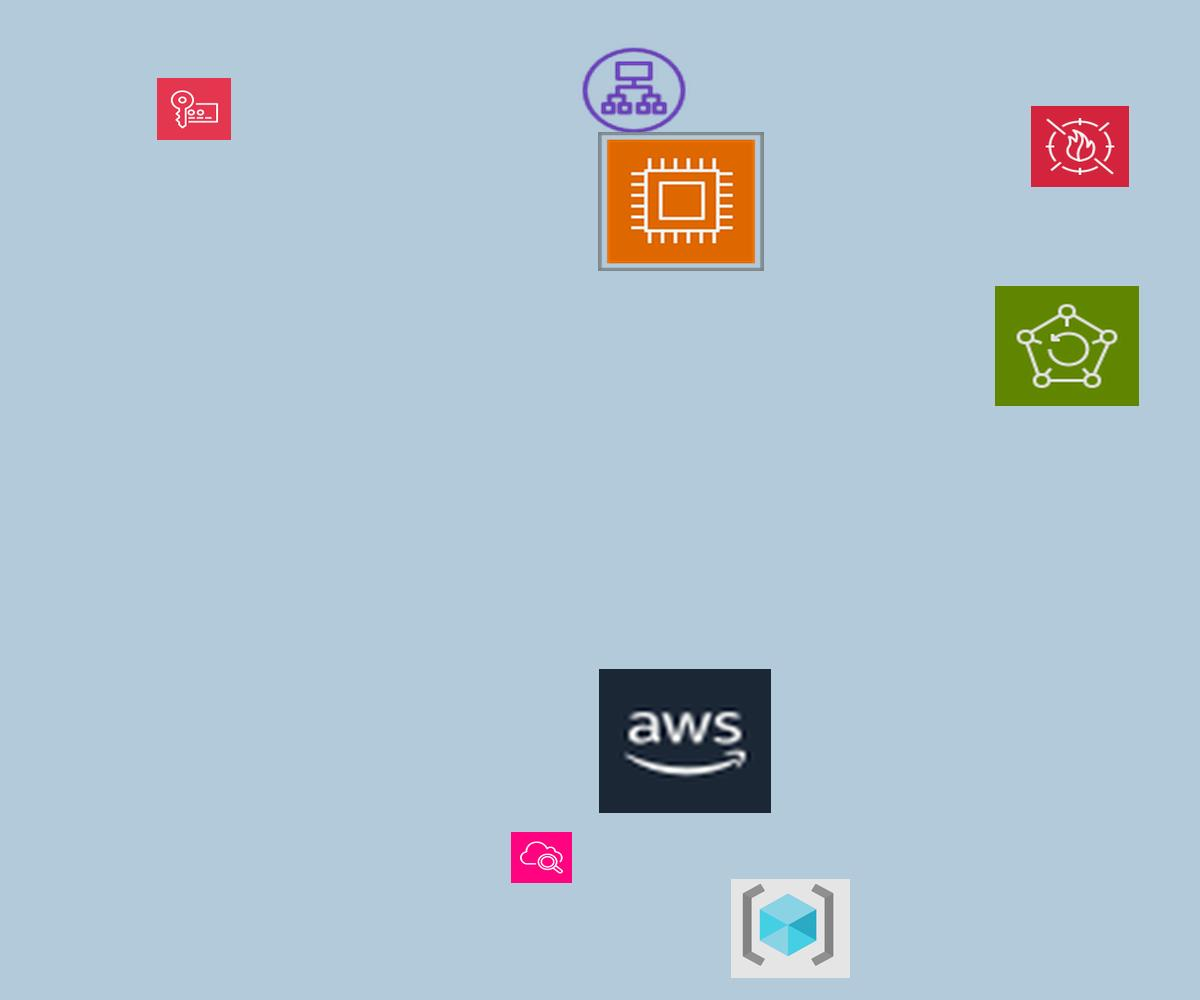AWS-Backup: (995, 286, 1139, 406)
AWS-Category_Compute: (598, 132, 764, 271)
AWS-Cloud-logo: (599, 669, 771, 813)
AWS-CloudWatch: (511, 832, 572, 883)
AWS-Key-Management-Service: (157, 78, 231, 140)
AWS-Res_Elastic-Load-Balancing_Application-Load-Balancer: (578, 44, 690, 137)
AWS-WAF: (1031, 106, 1129, 187)
Azure_resource_group: (731, 879, 850, 978)
